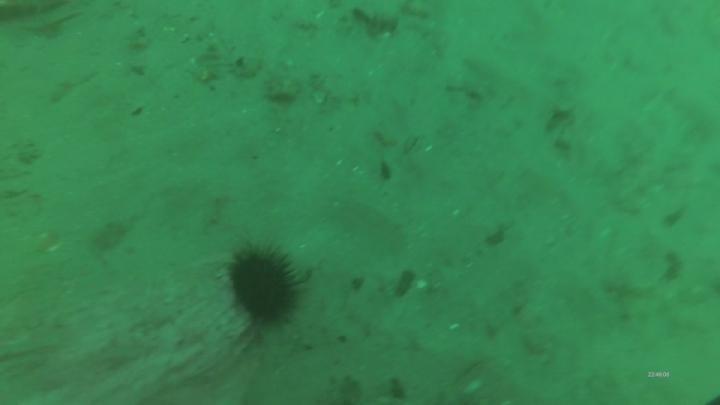echinus: (225, 241, 302, 338)
